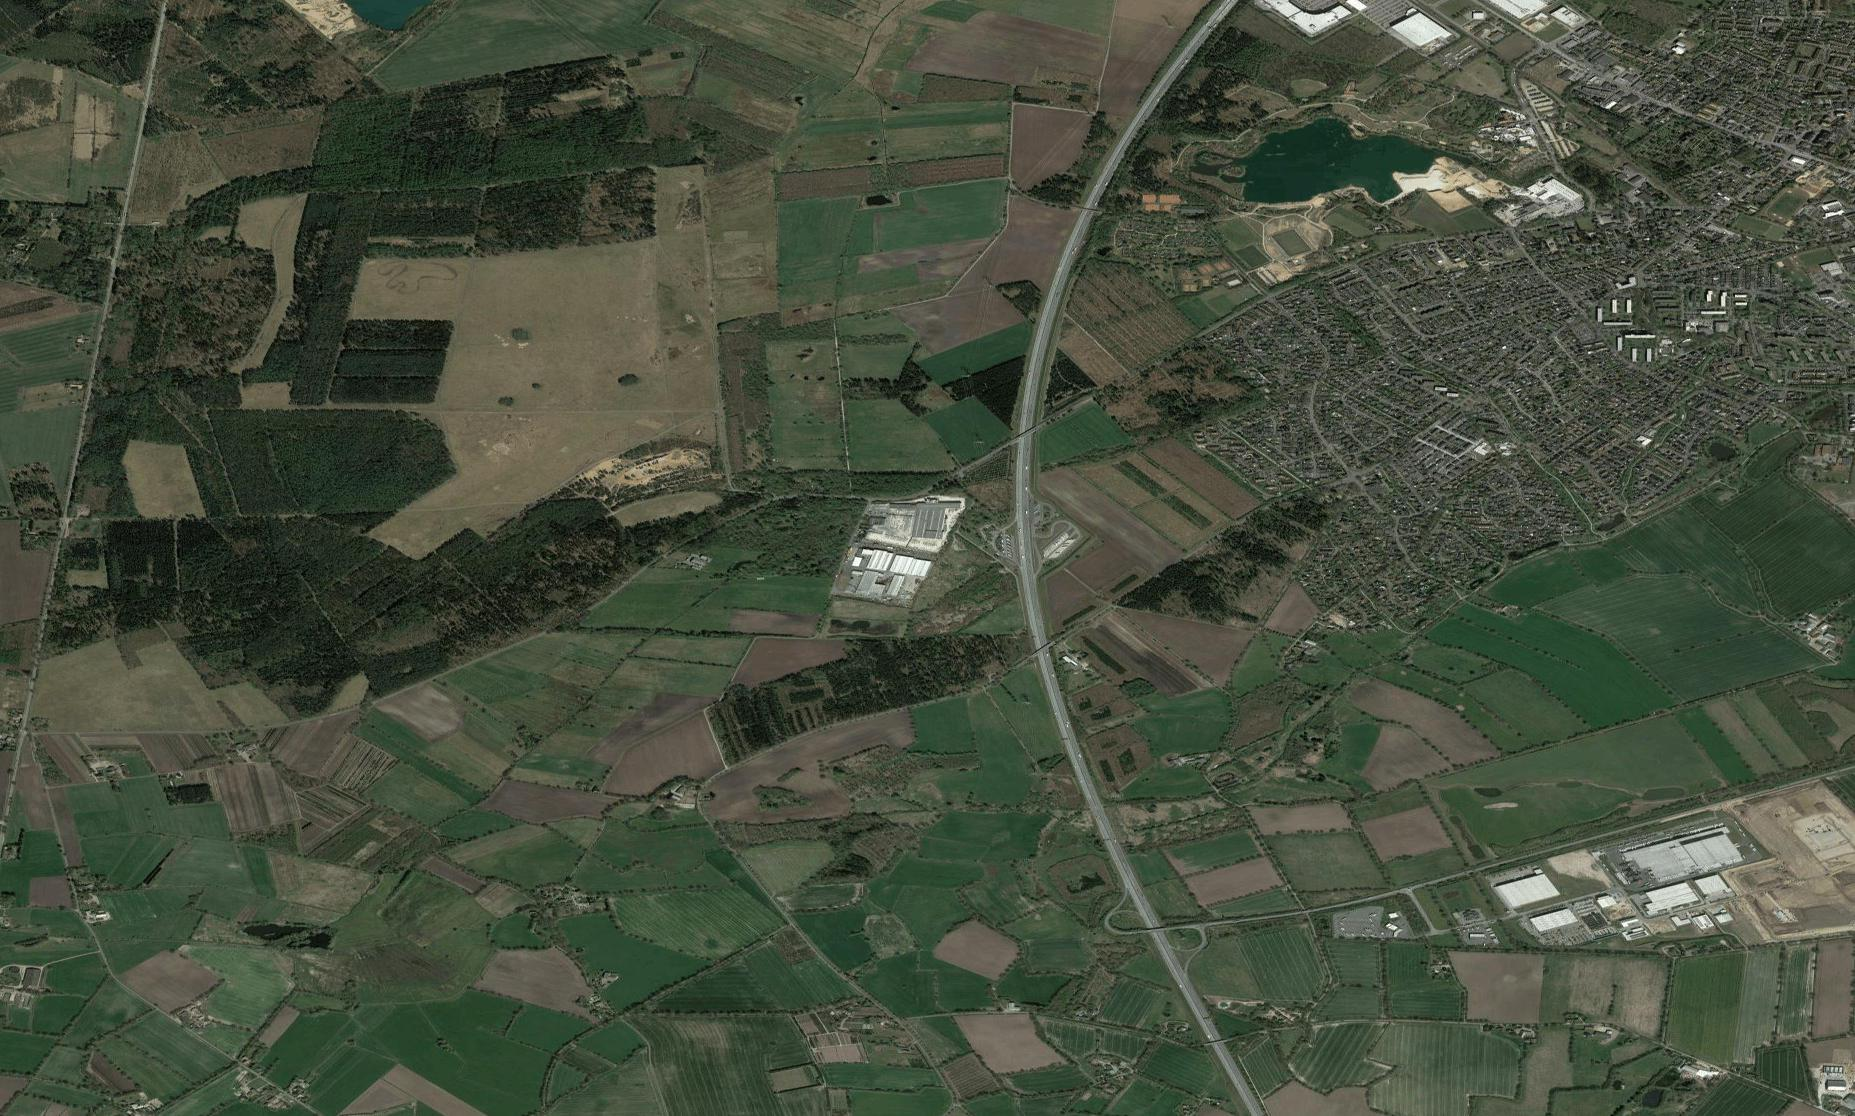industrial: (1495, 823, 1744, 946), (841, 494, 957, 627), (1443, 154, 1585, 225)
motorway: (1124, 859, 1261, 1116), (1027, 642, 1128, 863), (1113, 1, 1238, 166), (1036, 163, 1118, 372), (1003, 364, 1048, 638)
